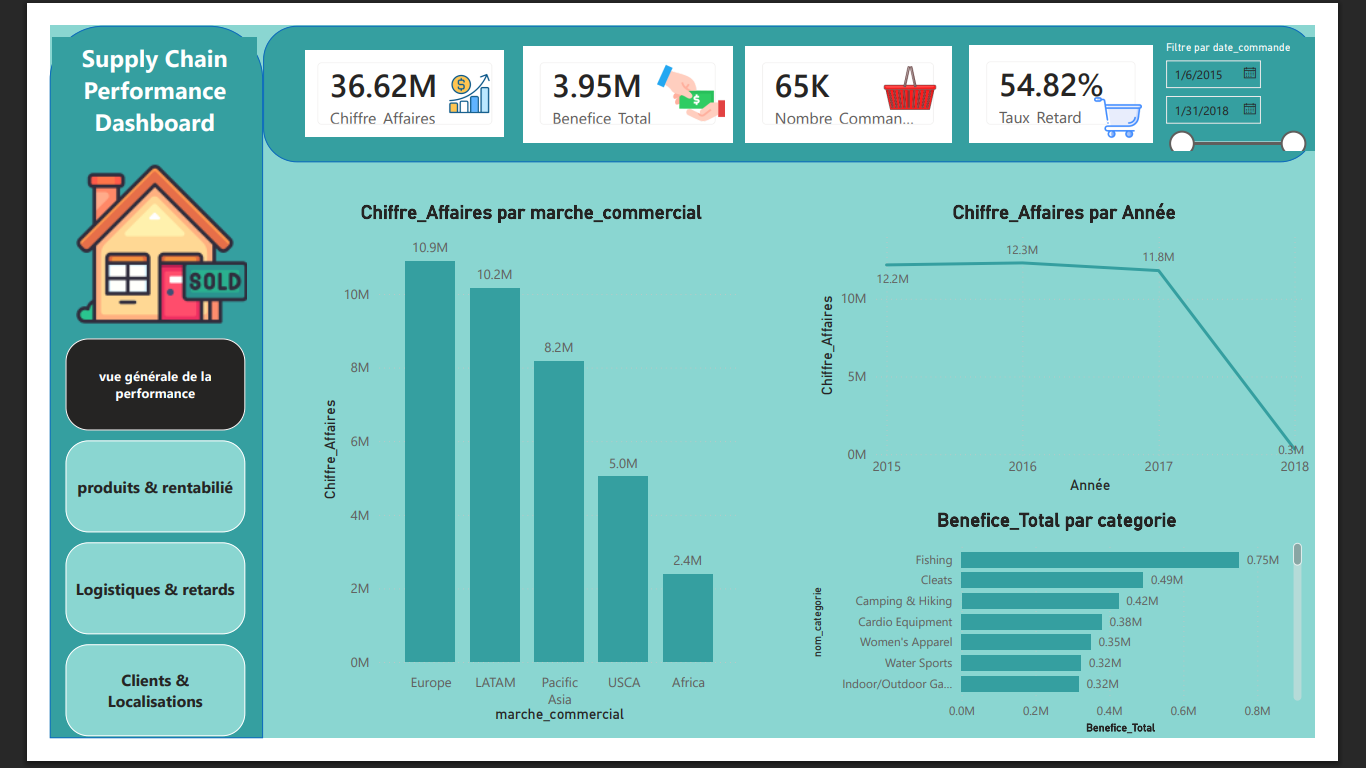

The dashboard page shown, as its layout file describes it:
{"tool":"powerbi","page":{"name":"vue générale de la performance","canvas":[1280,720],"ordinal":0},"visuals":[{"type":"shape","box":[215.6,0,1064.4,137.8],"z":0},{"type":"shape","box":[0,0,215.6,720],"z":1000},{"type":"cardVisual","fields":{"Data":["mesures.Chiffre_Affaires"]},"box":[254.4,20,211.1,97.8],"z":2000},{"type":"cardVisual","fields":{"Data":["mesures.Nombre_Commandes"]},"box":[704.4,20,208.9,97.8],"z":3000},{"type":"cardVisual","fields":{"Data":["mesures.Benefice_Total"]},"box":[478.9,20,212.2,97.8],"z":4000},{"type":"cardVisual","fields":{"Data":["mesures.Taux_Retard"]},"box":[931.1,18.9,185.6,98.9],"z":5000},{"type":"lineChart","fields":{"Y":["mesures.Chiffre_Affaires"],"Category":["Faits.date_commande.Variation.Hiérarchie de dates.Année"]},"box":[774.4,176.7,505.6,300],"z":6000},{"type":"clusteredColumnChart","fields":{"Y":["mesures.Chiffre_Affaires"],"Category":["Localisation.marche_commercial"]},"box":[271.1,176.7,433.3,532.2],"z":7000},{"type":"clusteredBarChart","title":"Benefice_Total par categorie","fields":{"Y":["mesures.Benefice_Total"],"Category":["Catégories.nom_categorie"]},"box":[766.7,487.8,505.6,232.2],"z":8000},{"type":"slicer","fields":{"Values":["Faits.date_commande"]},"box":[1117.1,11.4,162.9,114.3],"z":9000},{"type":"image","box":[391.1,38.9,66.7,58.9],"z":10000},{"type":"image","box":[585.6,34.4,126.7,67.8],"z":11000},{"type":"image","box":[1045.6,68.9,71.1,46.7],"z":12000},{"type":"image","box":[796.7,34.4,147.8,57.8],"z":13000},{"type":"pageNavigator","box":[15.7,315.7,182.9,404.3],"z":14000},{"type":"textbox","box":[2.9,11.4,207.1,108.6],"z":15000},{"type":"image","box":[27.1,115.7,171.4,208.6],"z":16000}]}

Visuals, with their boxes in screenshot pixels (x1, y1, x2, y2), scaled from the page's 1280x720 canvas onto the 1366x768 screenshot:
shape: [230,0,1365,147]
shape: [0,0,230,767]
cardVisual - mesures.Chiffre_Affaires: [271,21,497,126]
cardVisual - mesures.Nombre_Commandes: [752,21,975,126]
cardVisual - mesures.Benefice_Total: [511,21,738,126]
cardVisual - mesures.Taux_Retard: [994,20,1192,126]
lineChart - mesures.Chiffre_Affaires x Faits.date_commande.Variation.Hiérarchie de dates.Année: [826,188,1365,508]
clusteredColumnChart - mesures.Chiffre_Affaires x Localisation.marche_commercial: [289,188,752,756]
"Benefice_Total par categorie" clusteredBarChart: [818,520,1358,767]
slicer - Faits.date_commande: [1192,12,1365,134]
image: [417,41,489,104]
image: [625,37,760,109]
image: [1116,73,1192,123]
image: [850,37,1008,98]
pageNavigator: [17,337,212,767]
textbox: [3,12,224,128]
image: [29,123,212,346]
